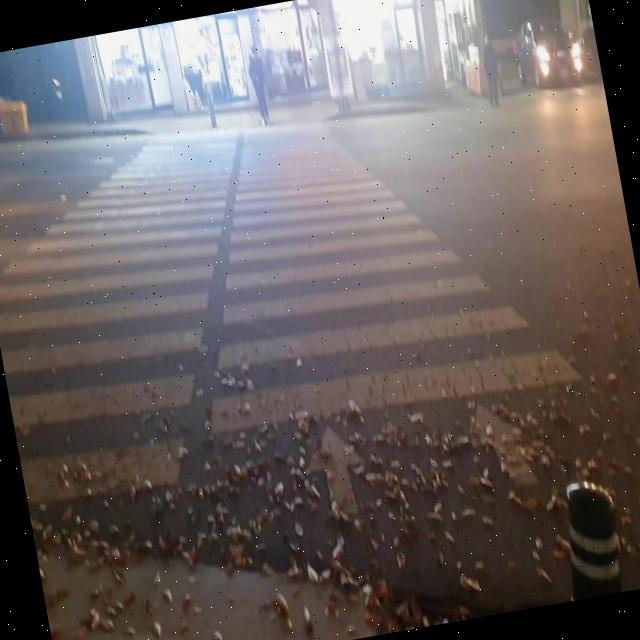crosswalk: (0, 120, 637, 527)
